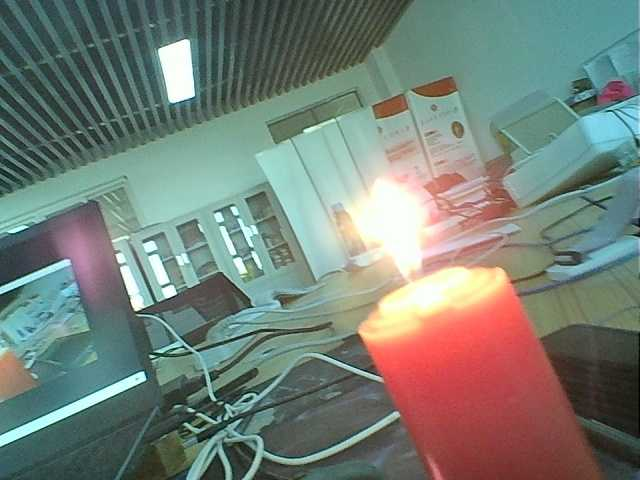candle: (334, 262, 615, 480)
fire: (350, 177, 450, 290)
